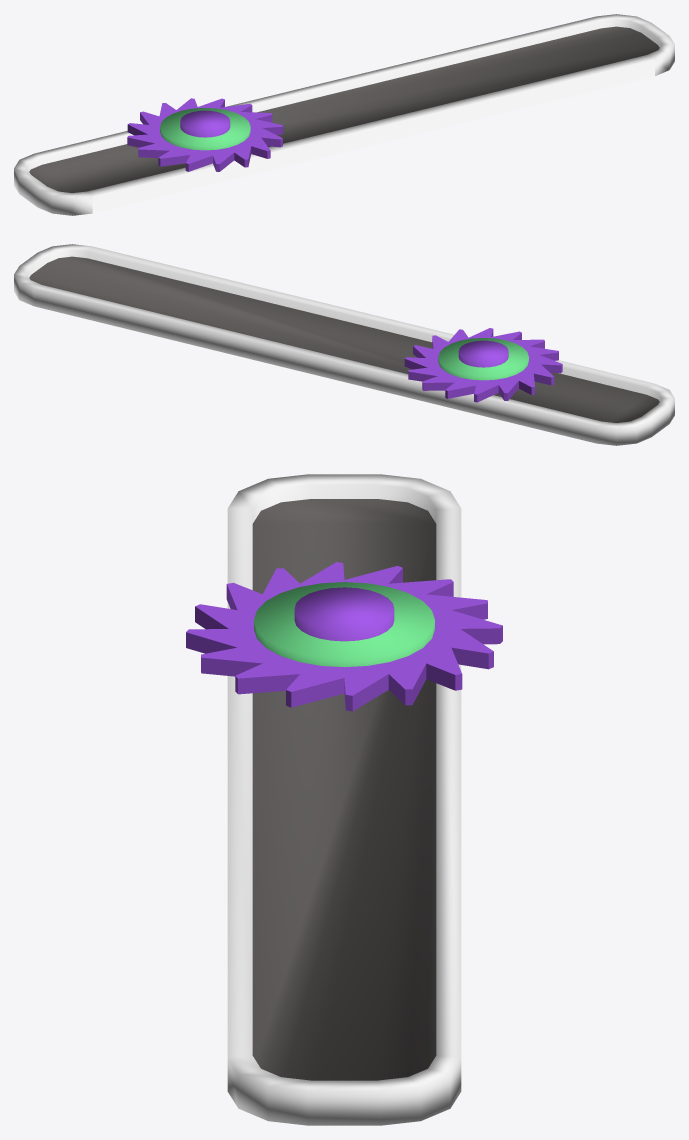
Rendered from Obstacle 3 V4.fbx.
The picture shows the model from 3 angles, top to bottom: view 1: azimuth 30°, elevation 25°; view 2: azimuth 150°, elevation 25°; view 3: azimuth 270°, elevation 25°; orthographic projection. The views are drawn at different scales.
Parts seen in each view (by area): view 1: O3 Part 2, O3 Part 1; view 2: O3 Part 2, O3 Part 1; view 3: O3 Part 2, O3 Part 1.
Part boxes in pixels (left/top/right/bottom): O3 Part 2: left=14, top=14, right=674, bottom=215; O3 Part 1: left=127, top=98, right=283, bottom=171; O3 Part 2: left=14, top=244, right=674, bottom=445; O3 Part 1: left=404, top=328, right=562, bottom=402; O3 Part 2: left=227, top=474, right=461, bottom=1125; O3 Part 1: left=186, top=562, right=502, bottom=711.
Size of the model in its own units: 281 by 15.5 by 61.04.
1 material, 1 textured.
